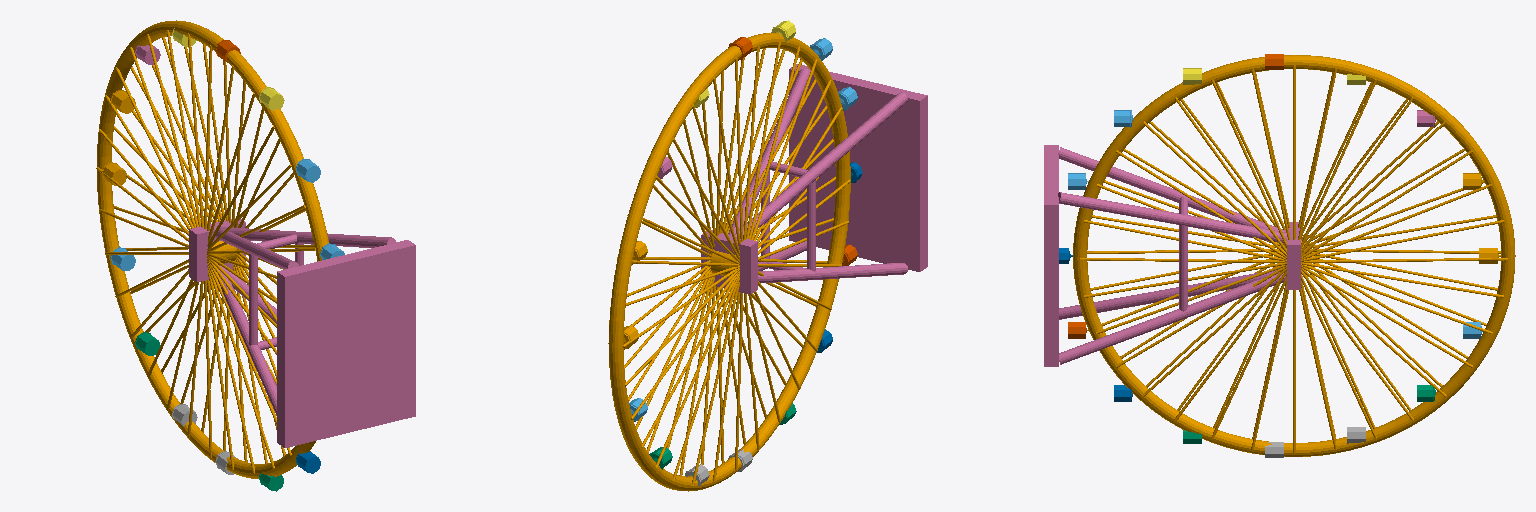
robot.urdf — a_ferris_wheel_1:
<?xml version="1.0"?>
<robot name="a_ferris_wheel_1">
  <link name="cabin_3">
    <visual>
      <geometry>
        <mesh filename="links/cabin_3.obj" />
      </geometry>
      <origin xyz="0.0 -62.7163859753386 -11.480502970952696" rpy="0.0 0.0 0.0" />
    </visual>
    <collision>
      <geometry>
        <mesh filename="links/cabin_3.obj" />
      </geometry>
      <origin xyz="0.0 -62.7163859753386 -11.480502970952696" rpy="0.0 0.0 0.0" />
    </collision>
  </link>
  <link name="cabin_13">
    <visual>
      <geometry>
        <mesh filename="links/cabin_13.obj" />
      </geometry>
      <origin xyz="0.0 -7.2836140246614 -11.480502970952701" rpy="0.0 0.0 0.0" />
    </visual>
    <collision>
      <geometry>
        <mesh filename="links/cabin_13.obj" />
      </geometry>
      <origin xyz="0.0 -7.2836140246614 -11.480502970952701" rpy="0.0 0.0 0.0" />
    </collision>
  </link>
  <link name="cabin_9">
    <visual>
      <geometry>
        <mesh filename="links/cabin_9.obj" />
      </geometry>
      <origin xyz="0.0 -23.519497029047308 27.716385975338607" rpy="0.0 0.0 0.0" />
    </visual>
    <collision>
      <geometry>
        <mesh filename="links/cabin_9.obj" />
      </geometry>
      <origin xyz="0.0 -23.519497029047308 27.716385975338607" rpy="0.0 0.0 0.0" />
    </collision>
  </link>
  <link name="cabin_15">
    <visual>
      <geometry>
        <mesh filename="links/cabin_15.obj" />
      </geometry>
      <origin xyz="0.0 -23.519497029047287 -27.716385975338596" rpy="0.0 0.0 0.0" />
    </visual>
    <collision>
      <geometry>
        <mesh filename="links/cabin_15.obj" />
      </geometry>
      <origin xyz="0.0 -23.519497029047287 -27.716385975338596" rpy="0.0 0.0 0.0" />
    </collision>
  </link>
  <link name="cabin_12">
    <visual>
      <geometry>
        <mesh filename="links/cabin_12.obj" />
      </geometry>
      <origin xyz="0.0 -5.0 5.510910596163089e-15" rpy="0.0 0.0 0.0" />
    </visual>
    <collision>
      <geometry>
        <mesh filename="links/cabin_12.obj" />
      </geometry>
      <origin xyz="0.0 -5.0 5.510910596163089e-15" rpy="0.0 0.0 0.0" />
    </collision>
  </link>
  <link name="cabin_0">
    <visual>
      <geometry>
        <mesh filename="links/cabin_0.obj" />
      </geometry>
      <origin xyz="0.0 -35.0 -30.0" rpy="0.0 0.0 0.0" />
    </visual>
    <collision>
      <geometry>
        <mesh filename="links/cabin_0.obj" />
      </geometry>
      <origin xyz="0.0 -35.0 -30.0" rpy="0.0 0.0 0.0" />
    </collision>
  </link>
  <link name="cabin_2">
    <visual>
      <geometry>
        <mesh filename="links/cabin_2.obj" />
      </geometry>
      <origin xyz="0.0 -56.21320343559643 -21.213203435596427" rpy="0.0 0.0 0.0" />
    </visual>
    <collision>
      <geometry>
        <mesh filename="links/cabin_2.obj" />
      </geometry>
      <origin xyz="0.0 -56.21320343559643 -21.213203435596427" rpy="0.0 0.0 0.0" />
    </collision>
  </link>
  <link name="cabin_7">
    <visual>
      <geometry>
        <mesh filename="links/cabin_7.obj" />
      </geometry>
      <origin xyz="0.0 -46.4805029709527 27.716385975338603" rpy="0.0 0.0 0.0" />
    </visual>
    <collision>
      <geometry>
        <mesh filename="links/cabin_7.obj" />
      </geometry>
      <origin xyz="0.0 -46.4805029709527 27.716385975338603" rpy="0.0 0.0 0.0" />
    </collision>
  </link>
  <link name="cabin_4">
    <visual>
      <geometry>
        <mesh filename="links/cabin_4.obj" />
      </geometry>
      <origin xyz="0.0 -65.0 -1.83697019872103e-15" rpy="0.0 0.0 0.0" />
    </visual>
    <collision>
      <geometry>
        <mesh filename="links/cabin_4.obj" />
      </geometry>
      <origin xyz="0.0 -65.0 -1.83697019872103e-15" rpy="0.0 0.0 0.0" />
    </collision>
  </link>
  <link name="cabin_5">
    <visual>
      <geometry>
        <mesh filename="links/cabin_5.obj" />
      </geometry>
      <origin xyz="0.0 -62.7163859753386 11.480502970952692" rpy="0.0 0.0 0.0" />
    </visual>
    <collision>
      <geometry>
        <mesh filename="links/cabin_5.obj" />
      </geometry>
      <origin xyz="0.0 -62.7163859753386 11.480502970952692" rpy="0.0 0.0 0.0" />
    </collision>
  </link>
  <link name="cabin_6">
    <visual>
      <geometry>
        <mesh filename="links/cabin_6.obj" />
      </geometry>
      <origin xyz="0.0 -56.21320343559643 21.213203435596423" rpy="0.0 0.0 0.0" />
    </visual>
    <collision>
      <geometry>
        <mesh filename="links/cabin_6.obj" />
      </geometry>
      <origin xyz="0.0 -56.21320343559643 21.213203435596423" rpy="0.0 0.0 0.0" />
    </collision>
  </link>
  <link name="cabin_1">
    <visual>
      <geometry>
        <mesh filename="links/cabin_1.obj" />
      </geometry>
      <origin xyz="0.0 -46.48050297095269 -27.716385975338603" rpy="0.0 0.0 0.0" />
    </visual>
    <collision>
      <geometry>
        <mesh filename="links/cabin_1.obj" />
      </geometry>
      <origin xyz="0.0 -46.48050297095269 -27.716385975338603" rpy="0.0 0.0 0.0" />
    </collision>
  </link>
  <link name="cabin_10">
    <visual>
      <geometry>
        <mesh filename="links/cabin_10.obj" />
      </geometry>
      <origin xyz="0.0 -13.786796564403577 21.21320343559643" rpy="0.0 0.0 0.0" />
    </visual>
    <collision>
      <geometry>
        <mesh filename="links/cabin_10.obj" />
      </geometry>
      <origin xyz="0.0 -13.786796564403577 21.21320343559643" rpy="0.0 0.0 0.0" />
    </collision>
  </link>
  <link name="cabin_11">
    <visual>
      <geometry>
        <mesh filename="links/cabin_11.obj" />
      </geometry>
      <origin xyz="0.0 -7.283614024661404 11.48050297095271" rpy="0.0 0.0 0.0" />
    </visual>
    <collision>
      <geometry>
        <mesh filename="links/cabin_11.obj" />
      </geometry>
      <origin xyz="0.0 -7.283614024661404 11.48050297095271" rpy="0.0 0.0 0.0" />
    </collision>
  </link>
  <link name="support_structure">
    <visual>
      <geometry>
        <mesh filename="links/support_structure.obj" />
      </geometry>
    </visual>
    <collision>
      <geometry>
        <mesh filename="links/support_structure.obj" />
      </geometry>
    </collision>
  </link>
  <link name="cabin_8">
    <visual>
      <geometry>
        <mesh filename="links/cabin_8.obj" />
      </geometry>
      <origin xyz="0.0 -35.00000000000001 30.0" rpy="0.0 0.0 0.0" />
    </visual>
    <collision>
      <geometry>
        <mesh filename="links/cabin_8.obj" />
      </geometry>
      <origin xyz="0.0 -35.00000000000001 30.0" rpy="0.0 0.0 0.0" />
    </collision>
  </link>
  <link name="wheel_structure">
    <visual>
      <geometry>
        <mesh filename="links/wheel_structure.obj" />
      </geometry>
      <origin xyz="0.0 -35.0 0.0" rpy="0.0 0.0 0.0" />
    </visual>
    <collision>
      <geometry>
        <mesh filename="links/wheel_structure.obj" />
      </geometry>
      <origin xyz="0.0 -35.0 0.0" rpy="0.0 0.0 0.0" />
    </collision>
  </link>
  <link name="cabin_14">
    <visual>
      <geometry>
        <mesh filename="links/cabin_14.obj" />
      </geometry>
      <origin xyz="0.0 -13.78679656440357 -21.21320343559642" rpy="0.0 0.0 0.0" />
    </visual>
    <collision>
      <geometry>
        <mesh filename="links/cabin_14.obj" />
      </geometry>
      <origin xyz="0.0 -13.78679656440357 -21.21320343559642" rpy="0.0 0.0 0.0" />
    </collision>
  </link>
  <joint name="support_to_wheel_joint" type="continuous">
    <parent link="support_structure" />
    <child link="wheel_structure" />
    <origin xyz="0 35 0" rpy="0 0 0" />
    <axis xyz="1 0 0" />
    
  </joint>
  <joint name="wheel_to_cabin_0_joint" type="revolute">
    <parent link="wheel_structure" />
    <child link="cabin_0" />
    <origin xyz="0 0 30" rpy="0 0 0" />
    <axis xyz="1 0 0" />
    <limit lower="-1.0" upper="1.0" effort="10" velocity="1.0" />
  </joint>
  <joint name="wheel_to_cabin_1_joint" type="revolute">
    <parent link="wheel_structure" />
    <child link="cabin_1" />
    <origin xyz="0 11.480502970952694 27.716385975338603" rpy="0 0 0" />
    <axis xyz="1 0 0" />
    <limit lower="-1.0" upper="1.0" effort="10" velocity="1.0" />
  </joint>
  <joint name="wheel_to_cabin_2_joint" type="revolute">
    <parent link="wheel_structure" />
    <child link="cabin_2" />
    <origin xyz="0 21.213203435596423 21.213203435596427" rpy="0 0 0" />
    <axis xyz="1 0 0" />
    <limit lower="-1.0" upper="1.0" effort="10" velocity="1.0" />
  </joint>
  <joint name="wheel_to_cabin_3_joint" type="revolute">
    <parent link="wheel_structure" />
    <child link="cabin_3" />
    <origin xyz="0 27.716385975338603 11.480502970952696" rpy="0 0 0" />
    <axis xyz="1 0 0" />
    <limit lower="-1.0" upper="1.0" effort="10" velocity="1.0" />
  </joint>
  <joint name="wheel_to_cabin_4_joint" type="revolute">
    <parent link="wheel_structure" />
    <child link="cabin_4" />
    <origin xyz="0 30 1.83697019872103e-15" rpy="0 0 0" />
    <axis xyz="1 0 0" />
    <limit lower="-1.0" upper="1.0" effort="10" velocity="1.0" />
  </joint>
  <joint name="wheel_to_cabin_5_joint" type="revolute">
    <parent link="wheel_structure" />
    <child link="cabin_5" />
    <origin xyz="0 27.716385975338603 -11.480502970952692" rpy="0 0 0" />
    <axis xyz="1 0 0" />
    <limit lower="-1.0" upper="1.0" effort="10" velocity="1.0" />
  </joint>
  <joint name="wheel_to_cabin_6_joint" type="revolute">
    <parent link="wheel_structure" />
    <child link="cabin_6" />
    <origin xyz="0 21.213203435596427 -21.213203435596423" rpy="0 0 0" />
    <axis xyz="1 0 0" />
    <limit lower="-1.0" upper="1.0" effort="10" velocity="1.0" />
  </joint>
  <joint name="wheel_to_cabin_7_joint" type="revolute">
    <parent link="wheel_structure" />
    <child link="cabin_7" />
    <origin xyz="0 11.480502970952697 -27.716385975338603" rpy="0 0 0" />
    <axis xyz="1 0 0" />
    <limit lower="-1.0" upper="1.0" effort="10" velocity="1.0" />
  </joint>
  <joint name="wheel_to_cabin_8_joint" type="revolute">
    <parent link="wheel_structure" />
    <child link="cabin_8" />
    <origin xyz="0 3.67394039744206e-15 -30" rpy="0 0 0" />
    <axis xyz="1 0 0" />
    <limit lower="-1.0" upper="1.0" effort="10" velocity="1.0" />
  </joint>
  <joint name="wheel_to_cabin_9_joint" type="revolute">
    <parent link="wheel_structure" />
    <child link="cabin_9" />
    <origin xyz="0 -11.48050297095269 -27.716385975338607" rpy="0 0 0" />
    <axis xyz="1 0 0" />
    <limit lower="-1.0" upper="1.0" effort="10" velocity="1.0" />
  </joint>
  <joint name="wheel_to_cabin_10_joint" type="revolute">
    <parent link="wheel_structure" />
    <child link="cabin_10" />
    <origin xyz="0 -21.213203435596423 -21.21320343559643" rpy="0 0 0" />
    <axis xyz="1 0 0" />
    <limit lower="-1.0" upper="1.0" effort="10" velocity="1.0" />
  </joint>
  <joint name="wheel_to_cabin_11_joint" type="revolute">
    <parent link="wheel_structure" />
    <child link="cabin_11" />
    <origin xyz="0 -27.716385975338596 -11.48050297095271" rpy="0 0 0" />
    <axis xyz="1 0 0" />
    <limit lower="-1.0" upper="1.0" effort="10" velocity="1.0" />
  </joint>
  <joint name="wheel_to_cabin_12_joint" type="revolute">
    <parent link="wheel_structure" />
    <child link="cabin_12" />
    <origin xyz="0 -30 -5.510910596163089e-15" rpy="0 0 0" />
    <axis xyz="1 0 0" />
    <limit lower="-1.0" upper="1.0" effort="10" velocity="1.0" />
  </joint>
  <joint name="wheel_to_cabin_13_joint" type="revolute">
    <parent link="wheel_structure" />
    <child link="cabin_13" />
    <origin xyz="0 -27.7163859753386 11.480502970952701" rpy="0 0 0" />
    <axis xyz="1 0 0" />
    <limit lower="-1.0" upper="1.0" effort="10" velocity="1.0" />
  </joint>
  <joint name="wheel_to_cabin_14_joint" type="revolute">
    <parent link="wheel_structure" />
    <child link="cabin_14" />
    <origin xyz="0 -21.21320343559643 21.21320343559642" rpy="0 0 0" />
    <axis xyz="1 0 0" />
    <limit lower="-1.0" upper="1.0" effort="10" velocity="1.0" />
  </joint>
  <joint name="wheel_to_cabin_15_joint" type="revolute">
    <parent link="wheel_structure" />
    <child link="cabin_15" />
    <origin xyz="0 -11.480502970952712 27.716385975338596" rpy="0 0 0" />
    <axis xyz="1 0 0" />
    <limit lower="-1.0" upper="1.0" effort="10" velocity="1.0" />
  </joint>
</robot>

--- Render facts (derived) ---
Views: 3 orthographic renders of the robot side by side, from view 1: azimuth 30°, elevation 25°; view 2: azimuth 150°, elevation 25°; view 3: azimuth 270°, elevation 25°.
Robot: a_ferris_wheel_1 — 18 links, 17 joints (16 revolute, 1 continuous); root link support_structure; default pose: all joints at 0.
Links seen in each view (by area): view 1: support_structure, wheel_structure; view 2: wheel_structure, support_structure; view 3: wheel_structure, support_structure.
Link boxes in pixels (x1=…): support_structure: x1=189, y1=218, x2=415, y2=447; wheel_structure: x1=96, y1=20, x2=328, y2=478; wheel_structure: x1=608, y1=33, x2=850, y2=491; support_structure: x1=701, y1=64, x2=927, y2=294; wheel_structure: x1=1073, y1=55, x2=1515, y2=456; support_structure: x1=1044, y1=145, x2=1300, y2=366.
Bounding box of the posed robot: 20 × 66 × 62.75 m (x, y, z).
18 mesh visuals loaded from 18 distinct referenced files (18 OBJ).
